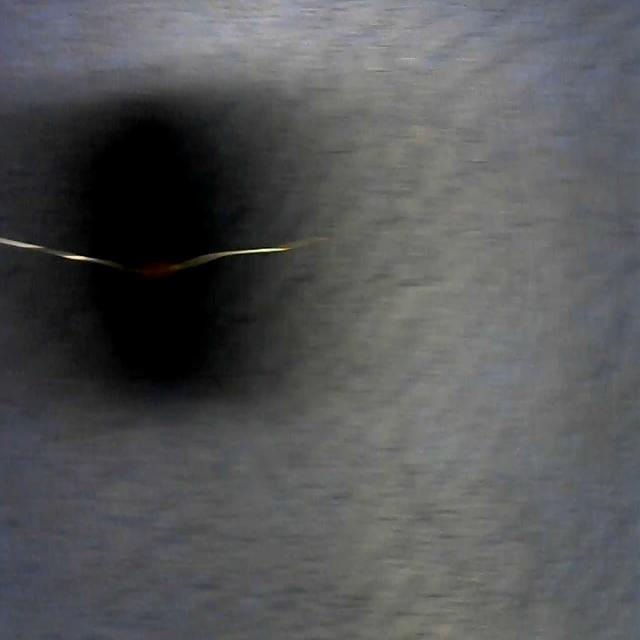resistor: (0, 232, 339, 284)
